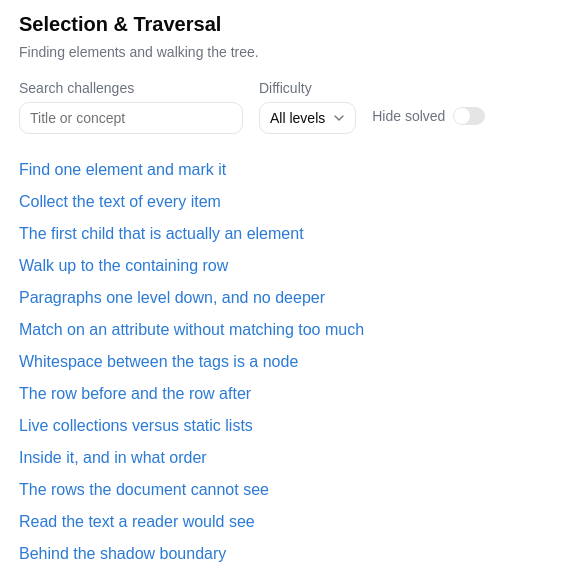
Test: ChallengeList › keeps the live region mounted and silent while there is still something to list
Type "nothing matches this" into the field labelled "Search challenges" at coordinates (131, 118), box [19,102,243,134]
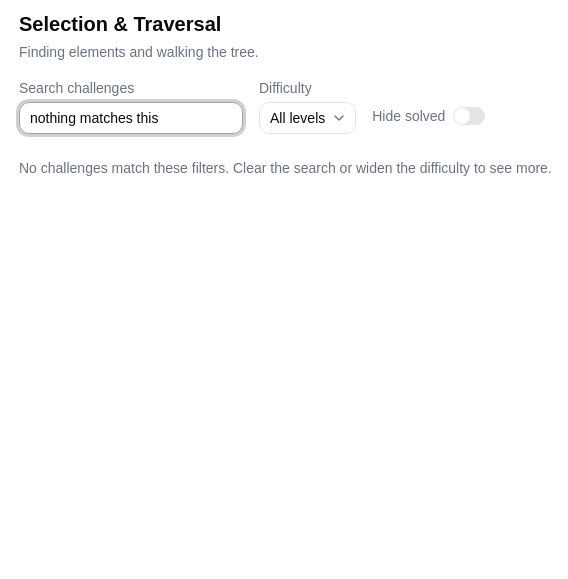
Expected: the text "No challenges match" is shown, [19,160,552,176]
Expected: no list items are shown
